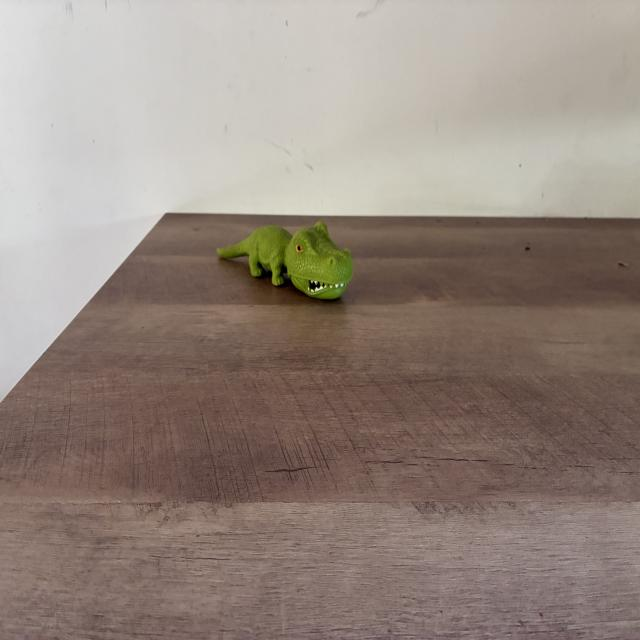dinosaur: (216, 221, 353, 300)
